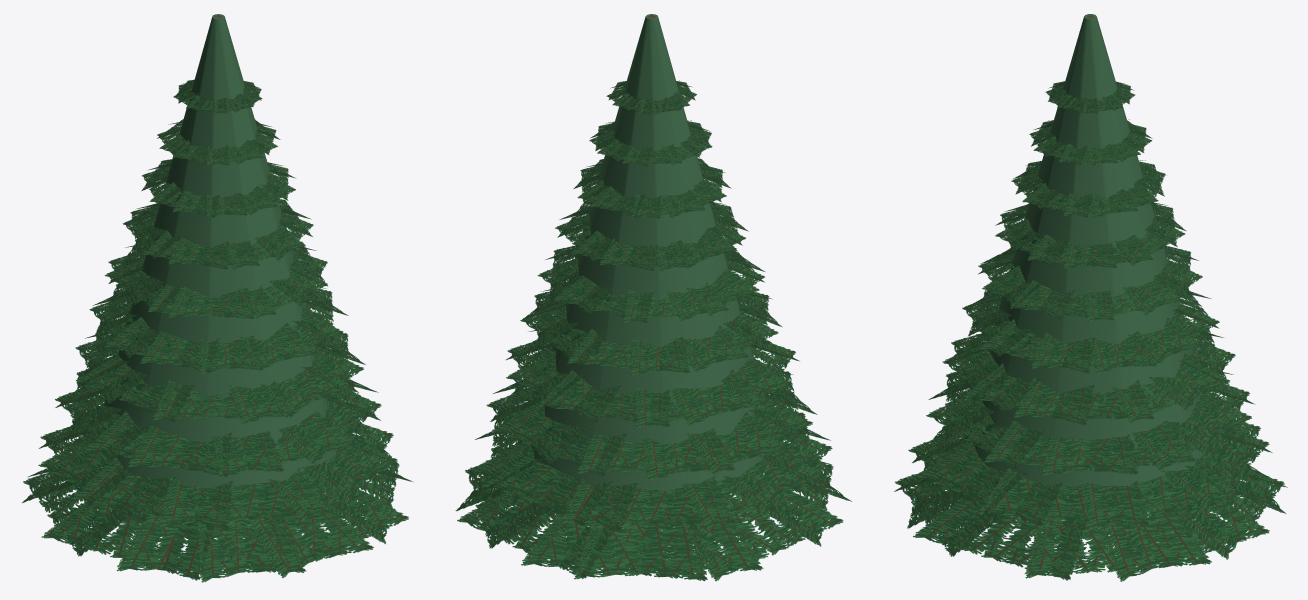
File: pine_0.gltf
3 renders of one model, left to right at view 1: azimuth 30°, elevation 25°; view 2: azimuth 150°, elevation 25°; view 3: azimuth 270°, elevation 25°, orthographic.
Visible parts, largest first — view 1: pine_0; view 2: pine_0; view 3: pine_0.
Part boxes in pixels (left/top/right/bottom): pine_0: left=22, top=14, right=412, bottom=582; pine_0: left=455, top=14, right=851, bottom=581; pine_0: left=894, top=14, right=1287, bottom=581.
Bounding box in the file's own units: 1.91 × 2.6 × 1.91.
Materials: 3 (2 with a texture image).
